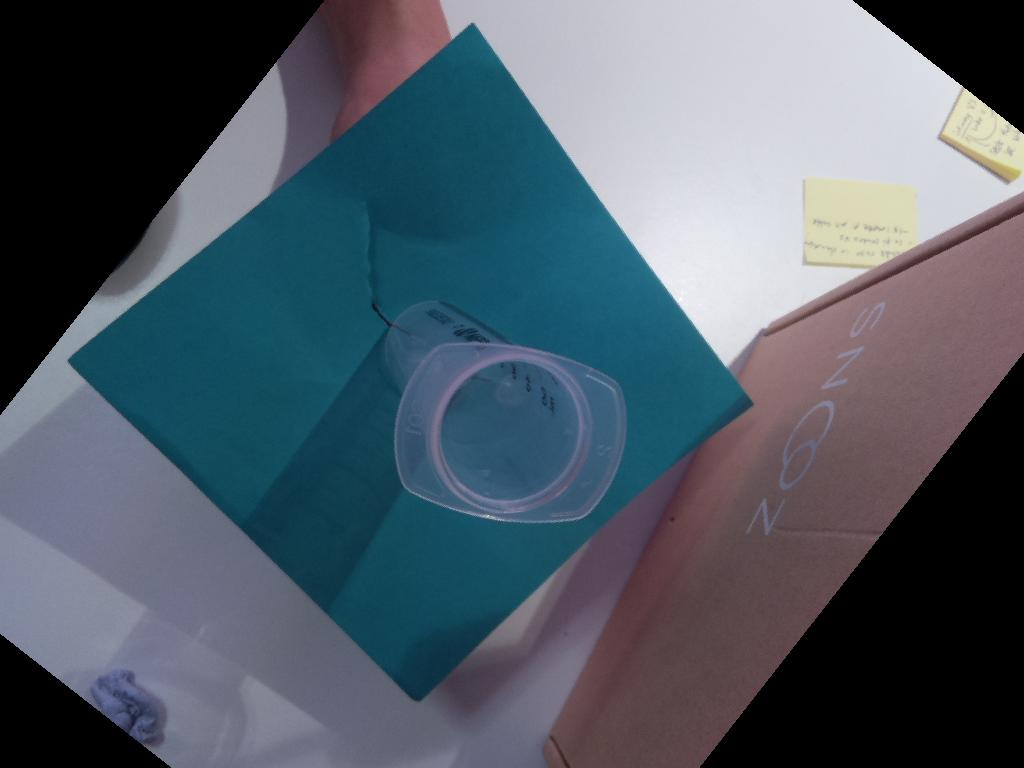clean: (392, 341, 631, 524)
